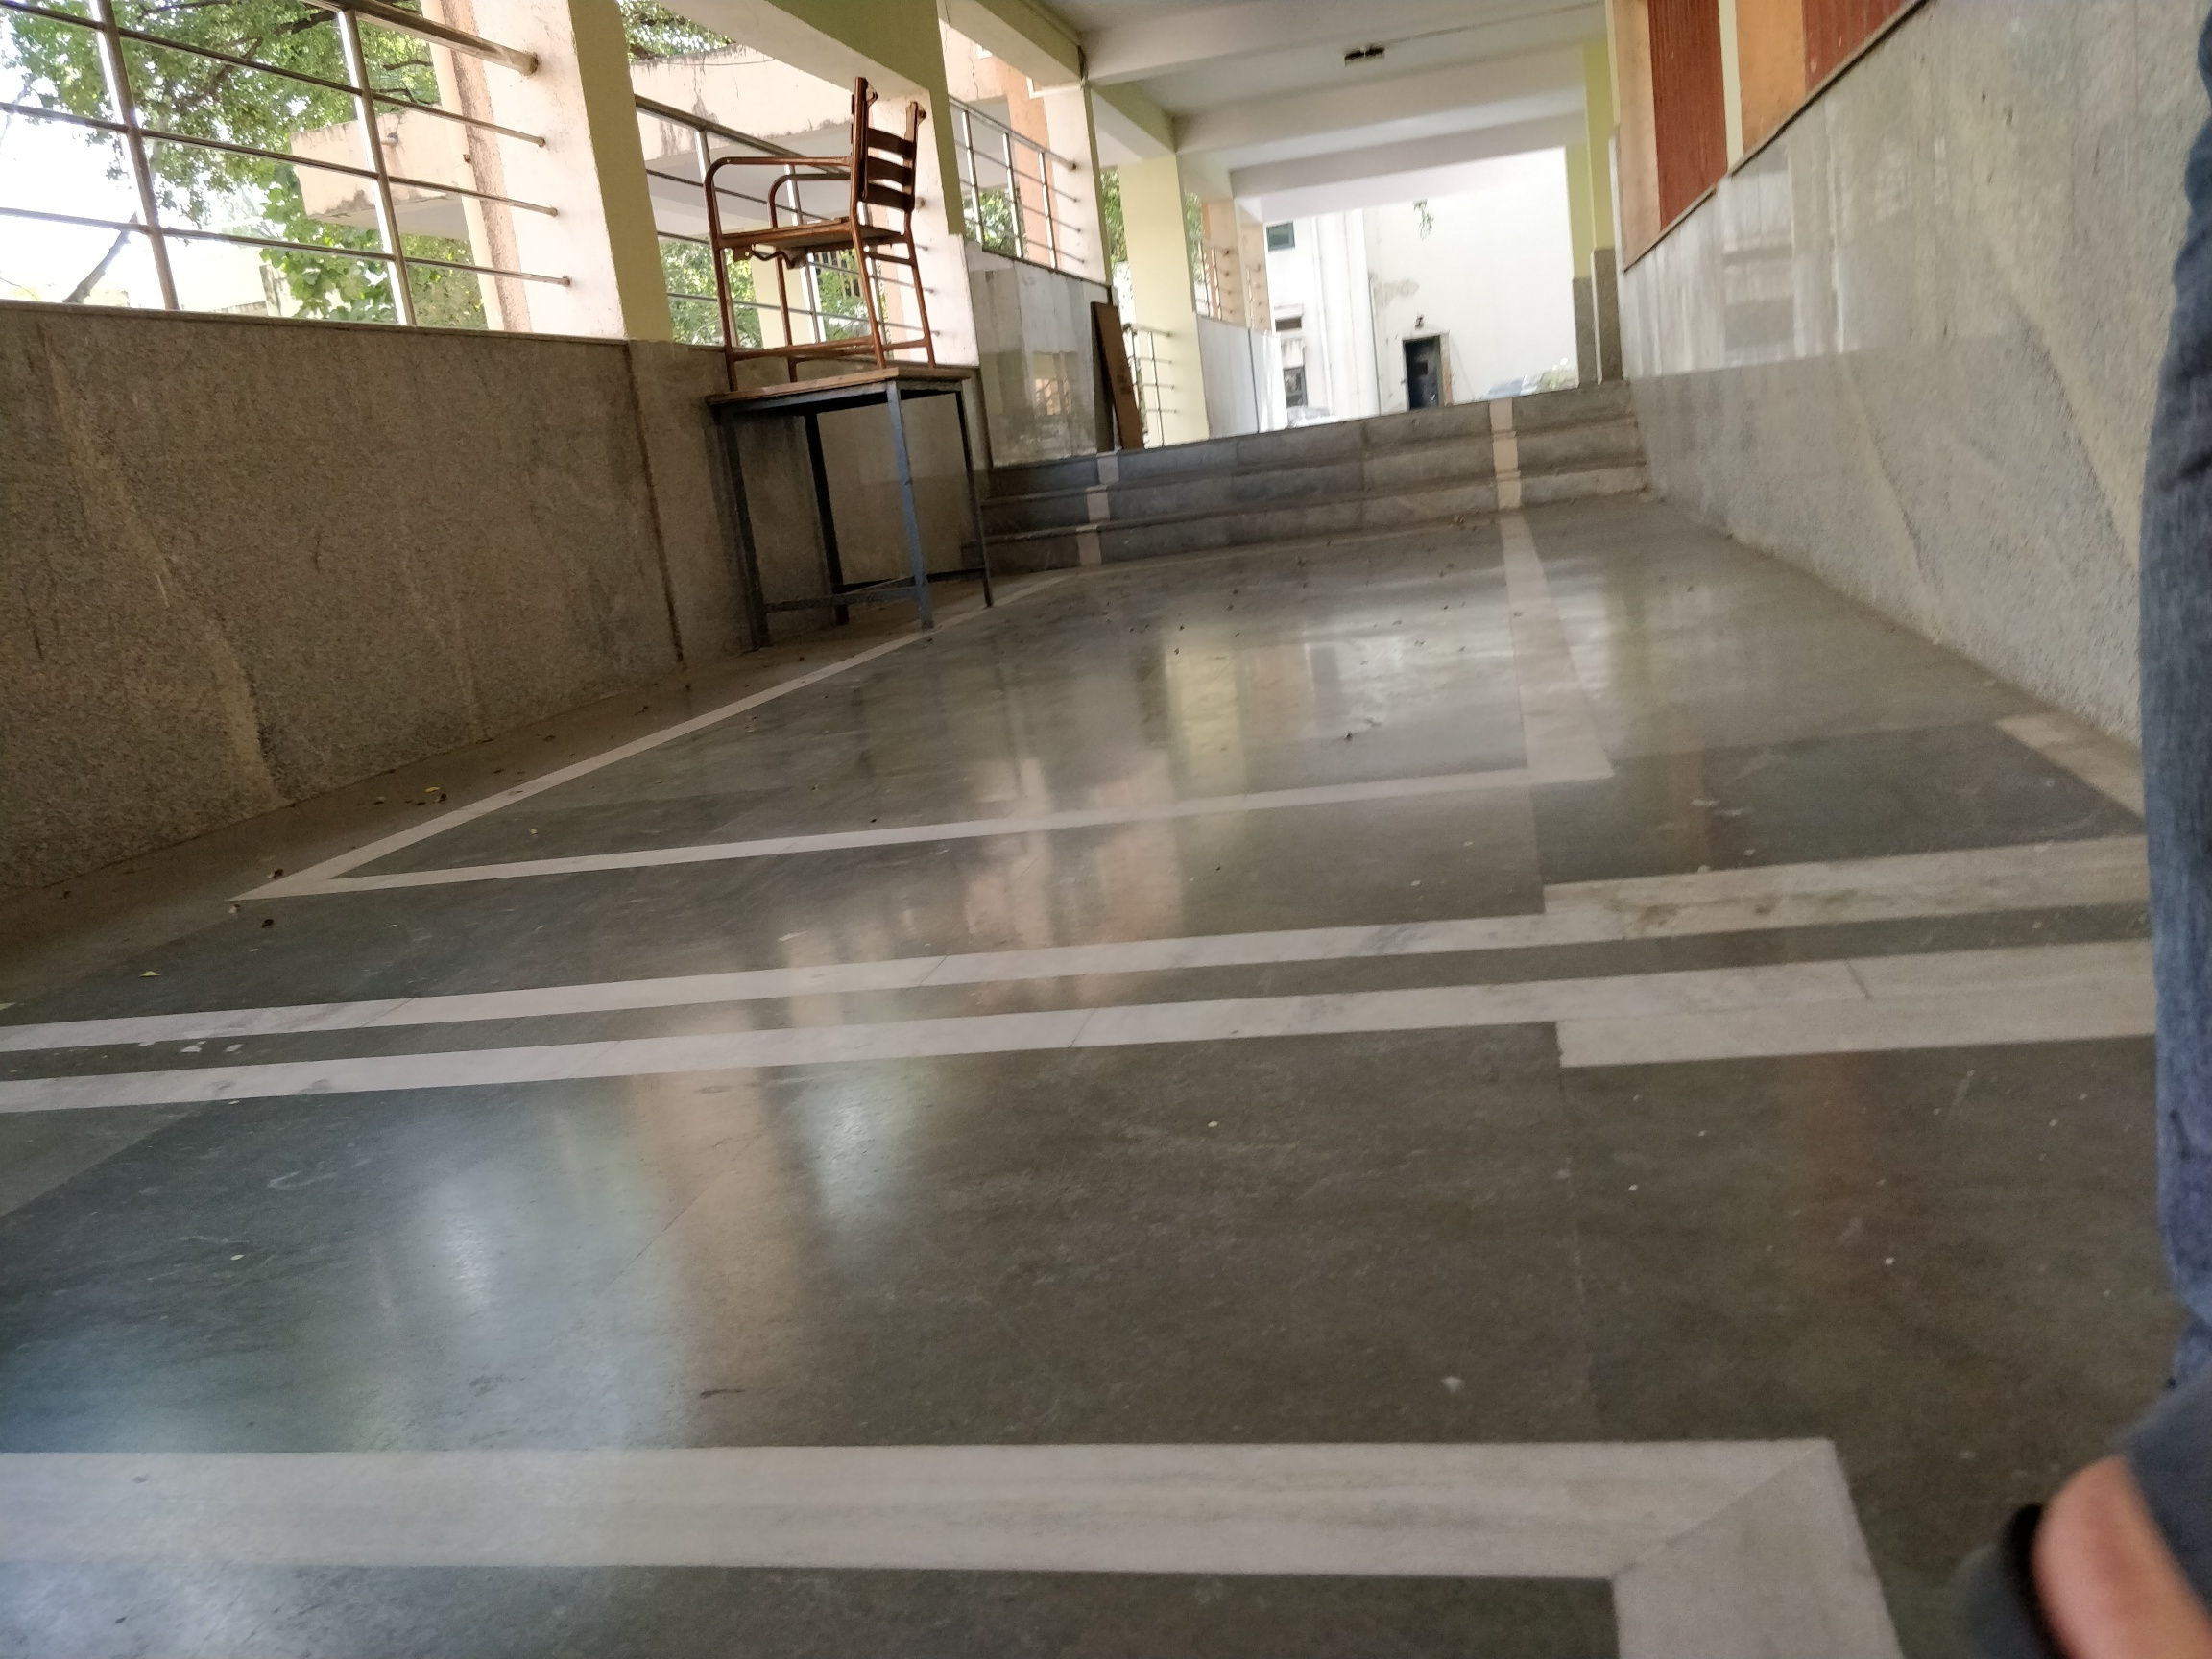stairs_up: (1017, 361, 1611, 568)
